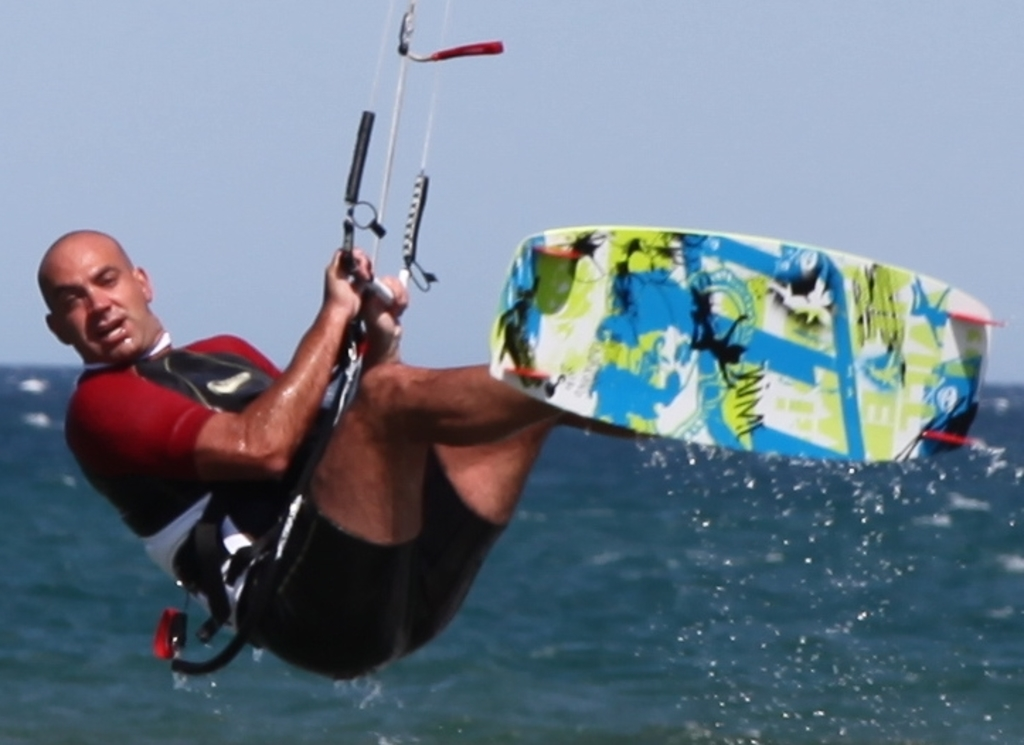Person: (37, 228, 656, 678)
